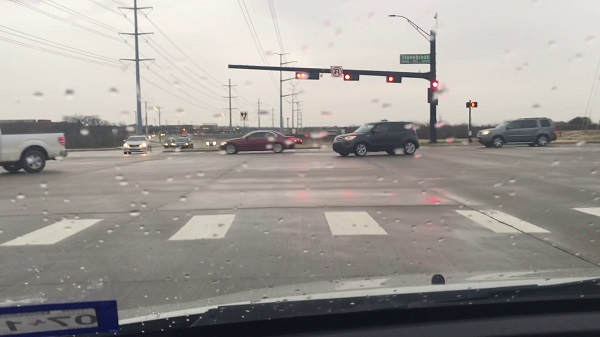car: (333, 120, 421, 158), (477, 117, 557, 150), (218, 131, 303, 155), (122, 135, 151, 153)
truck: (1, 122, 67, 170)
